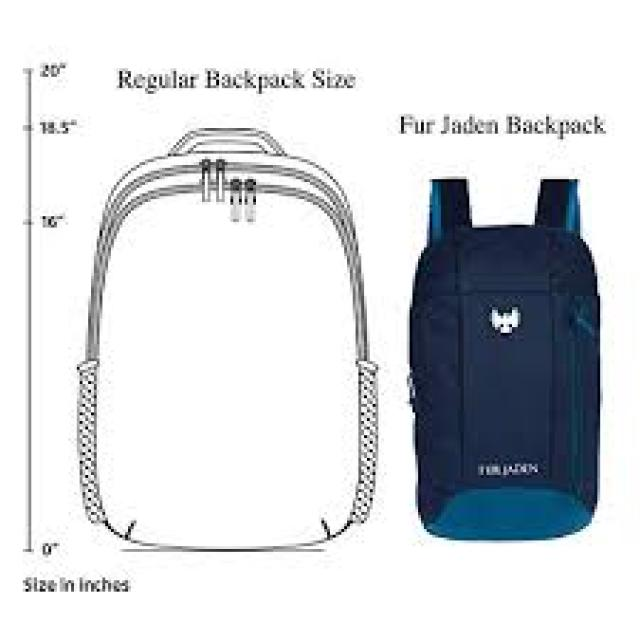backpack: (75, 126, 379, 553), (408, 175, 601, 542)
